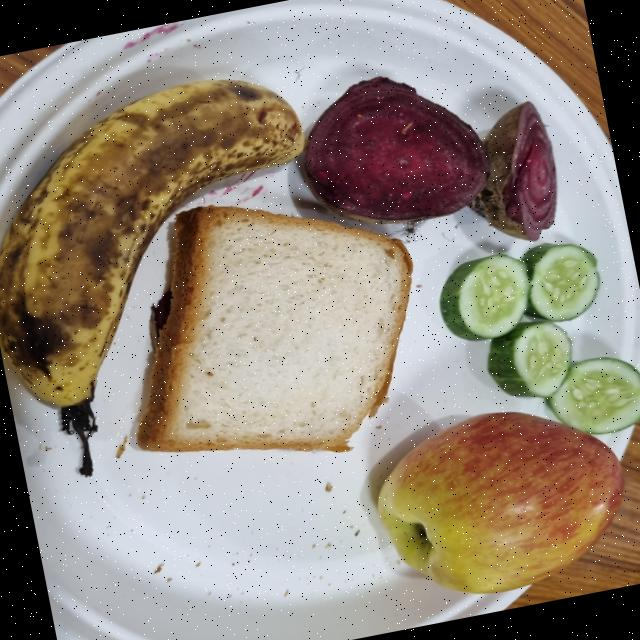apple: (373, 411, 621, 597)
banana: (0, 78, 303, 409)
cucumber: (441, 255, 529, 343), (545, 355, 640, 435), (484, 320, 572, 399), (519, 242, 599, 326)
